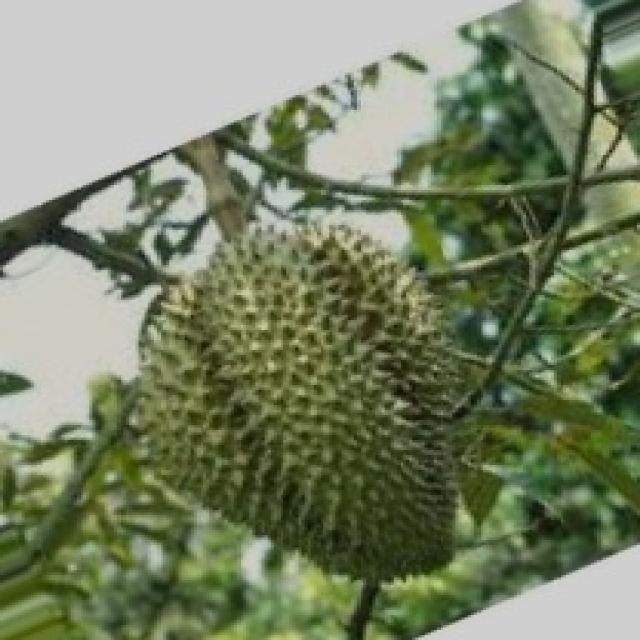fruit: (70, 187, 502, 625)
